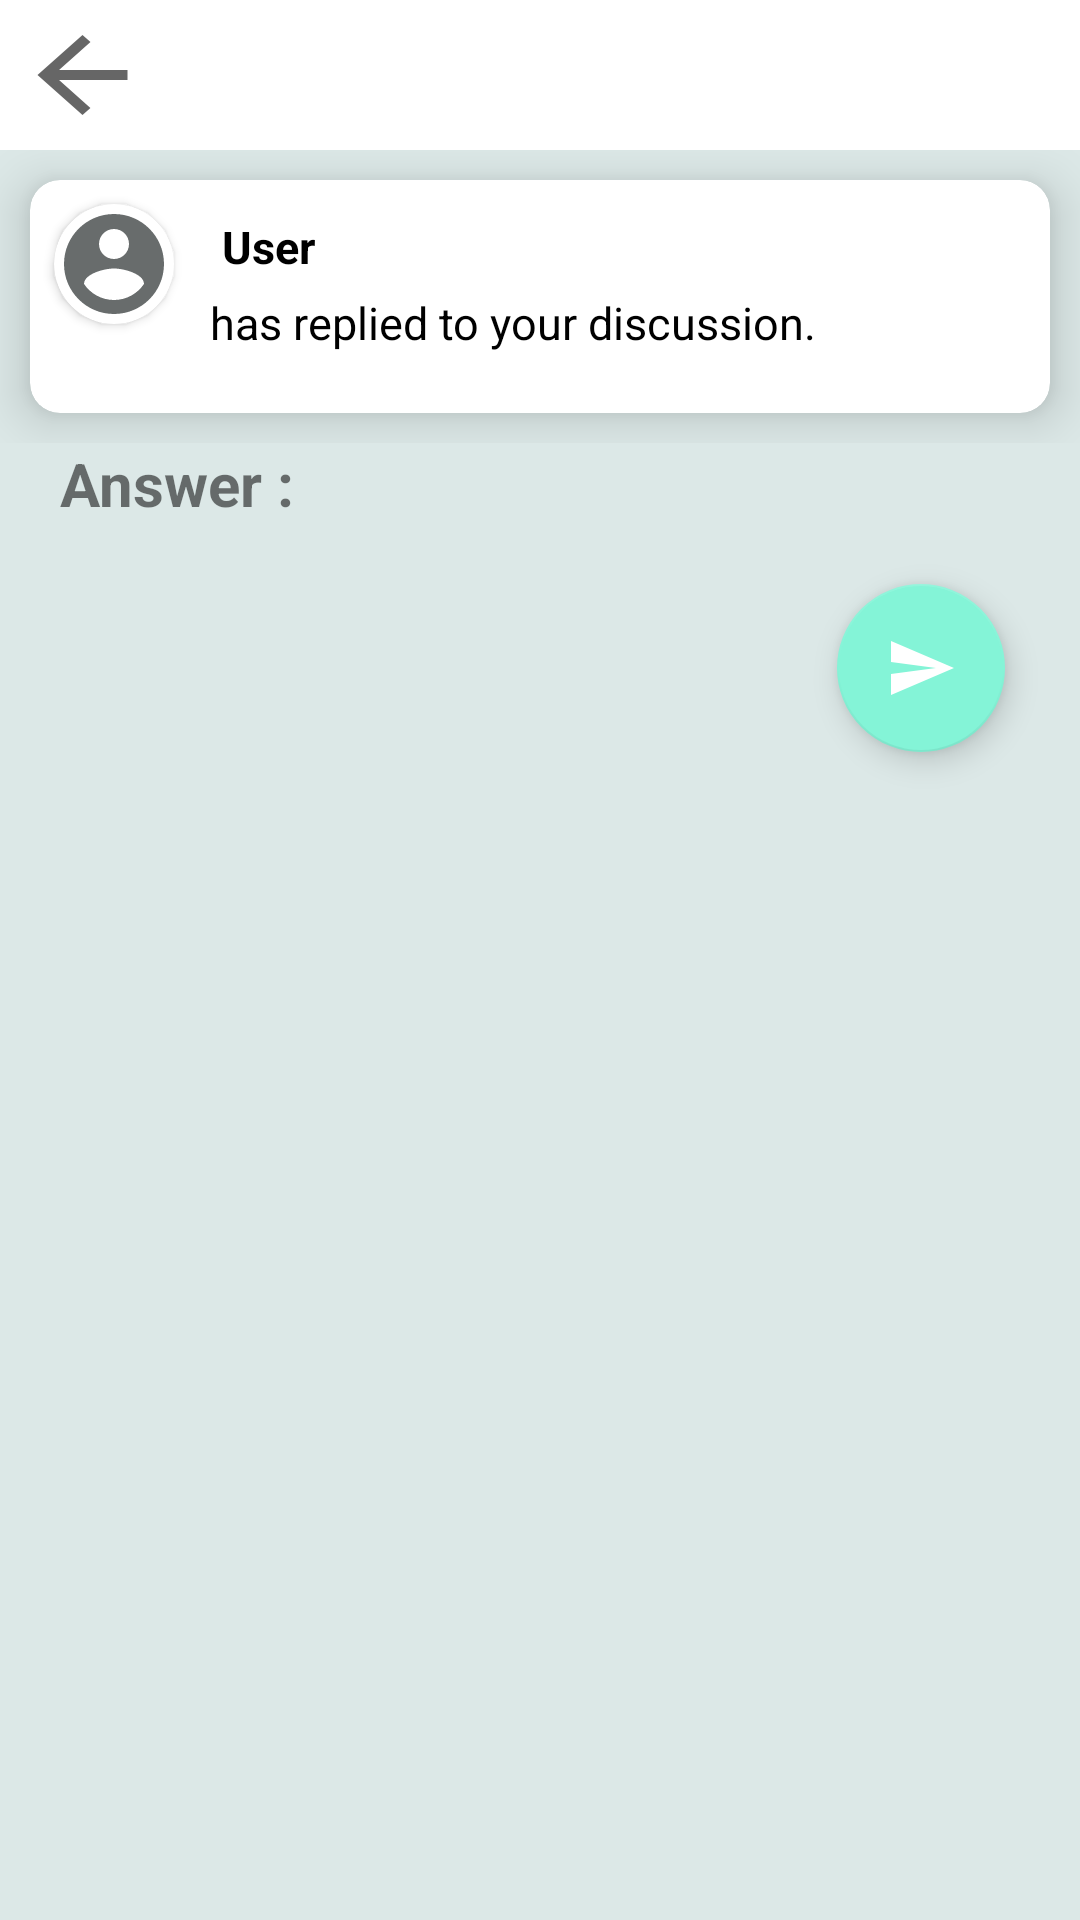

Named icons in this screenshot (1080w x 1920h) and their centers, [x,y]:
account: [109,269]
arrow back: [83,75]
send: [921,668]
